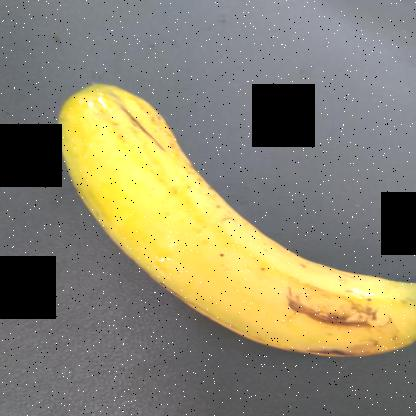ripe: (37, 69, 415, 393)
